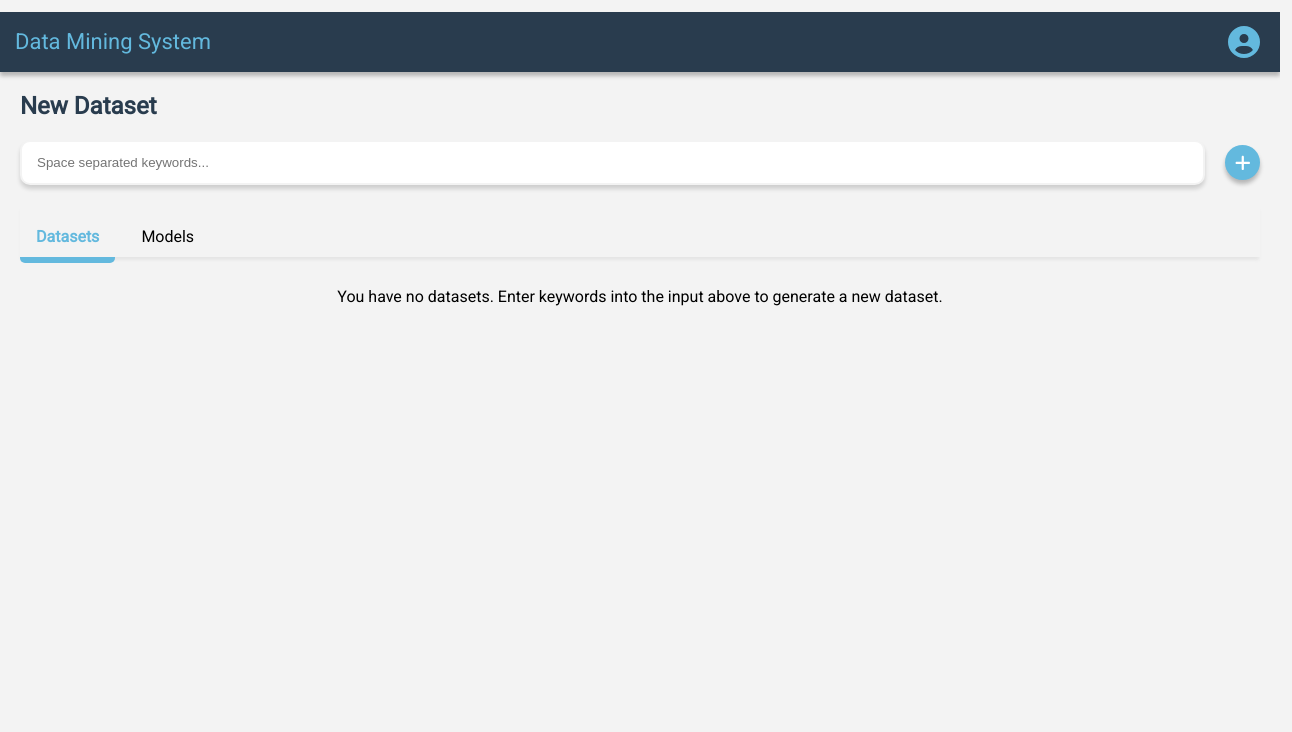
Test case: Analogy Test Page › White box tests › should show error message if negative number is entered in number field
Click the list item "Models" at (168, 237), box [141,227,194,246]
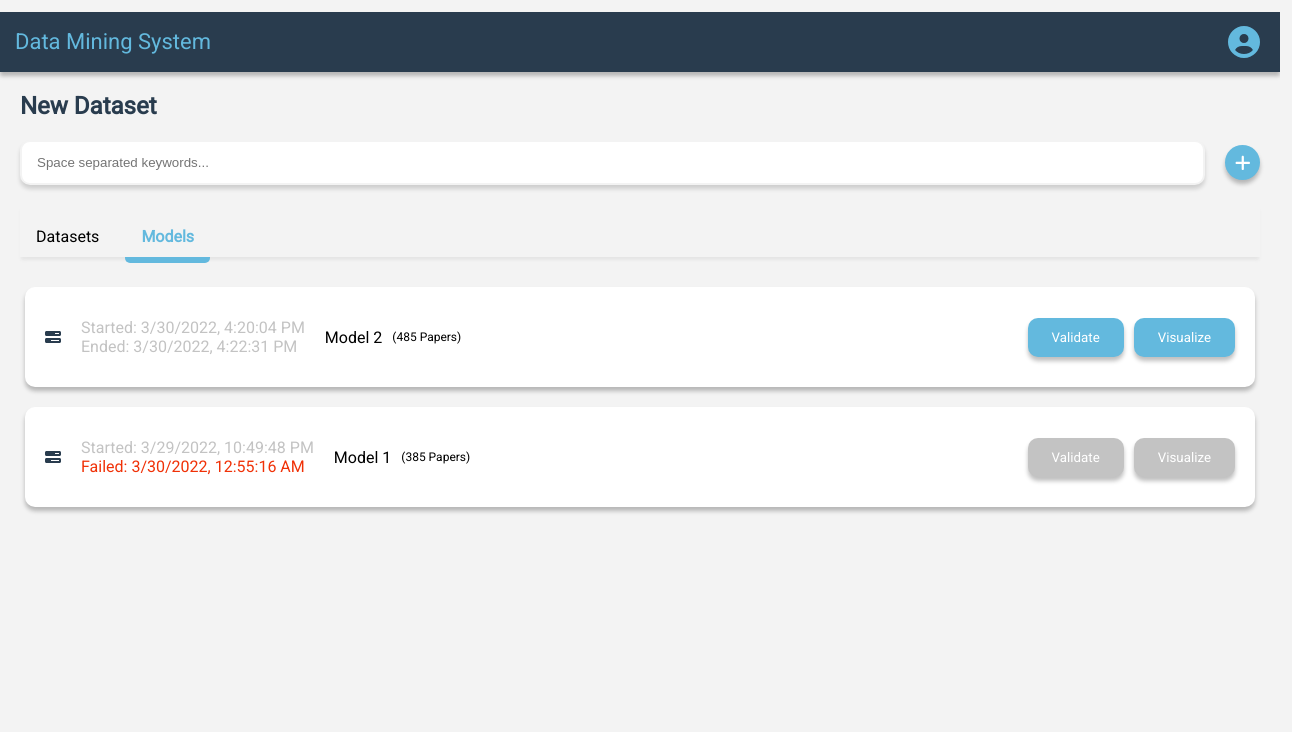
Click the button "Validate" in the row of "485" at (1076, 338), box [1028,318,1124,357]
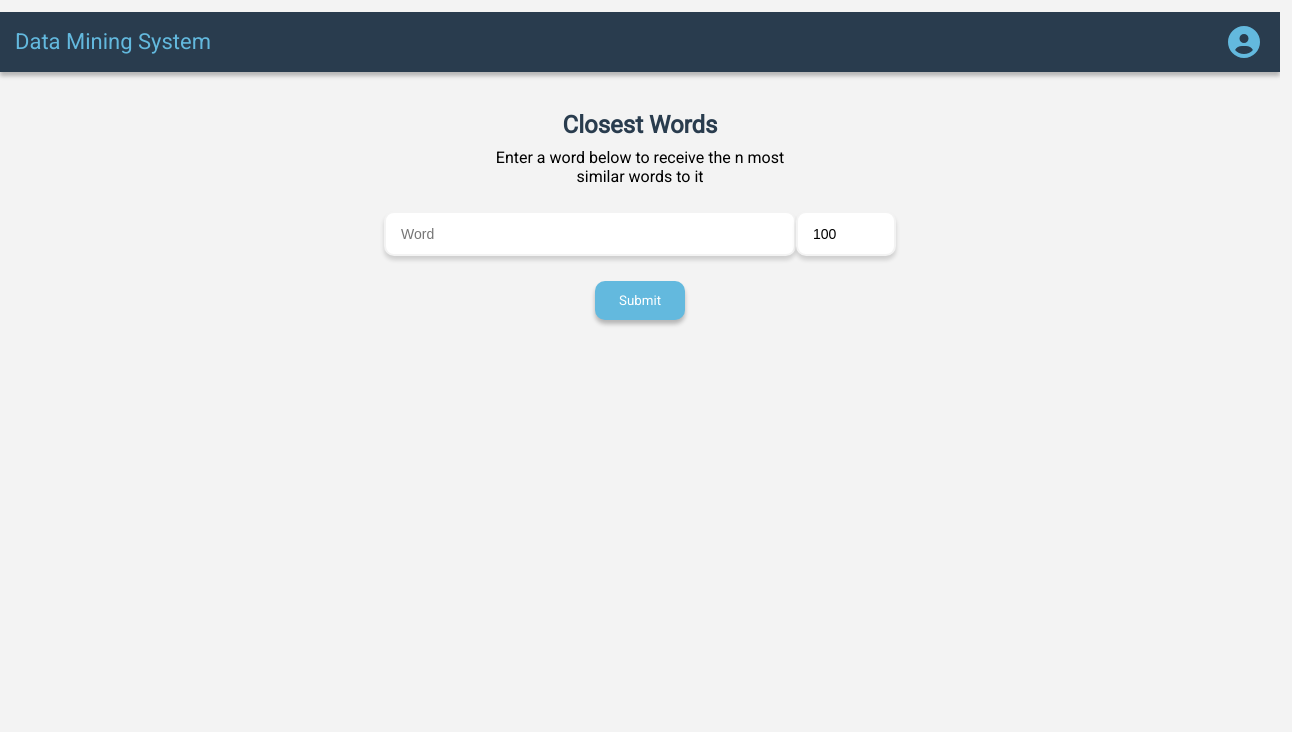
Type "word" into the field with id "closest-word-input" at (590, 234), box [384,211,796,256]
Click the button "Submit" at (640, 301), box [595,281,685,320]
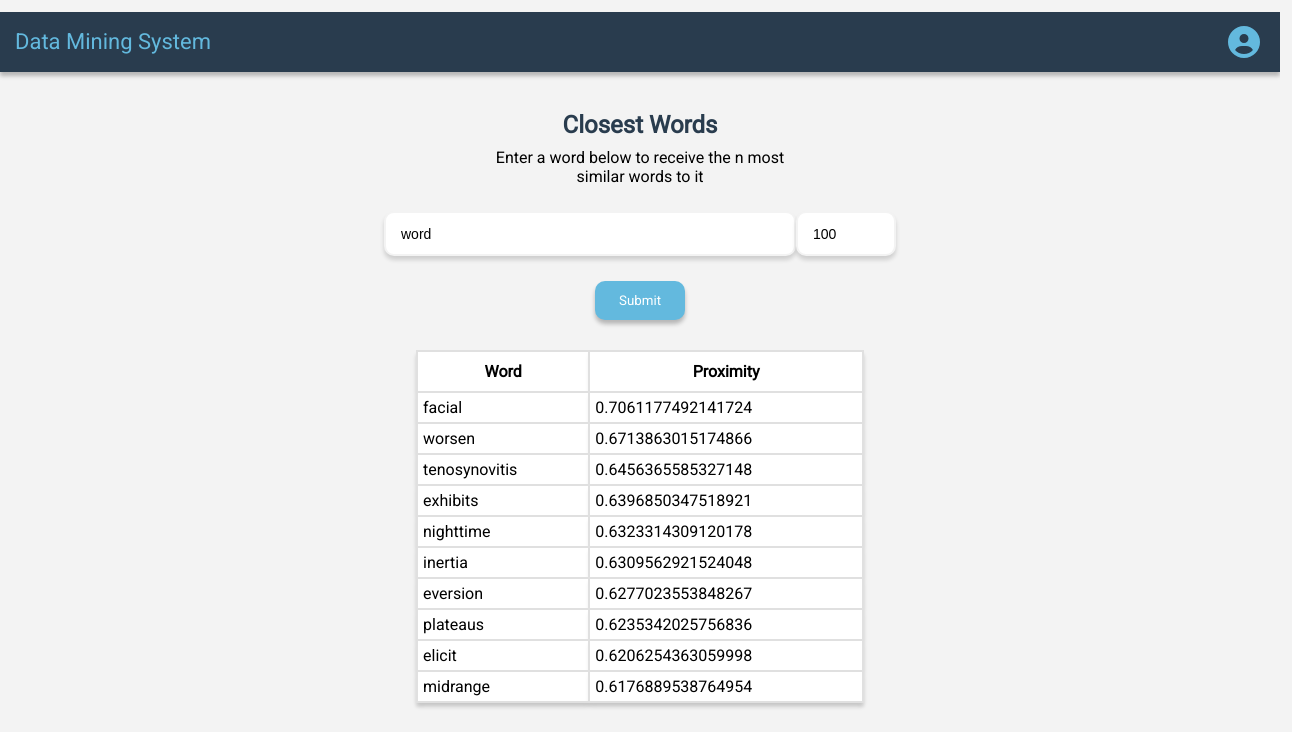
Click the cell "facial" at (503, 408), box [417,392,589,423]
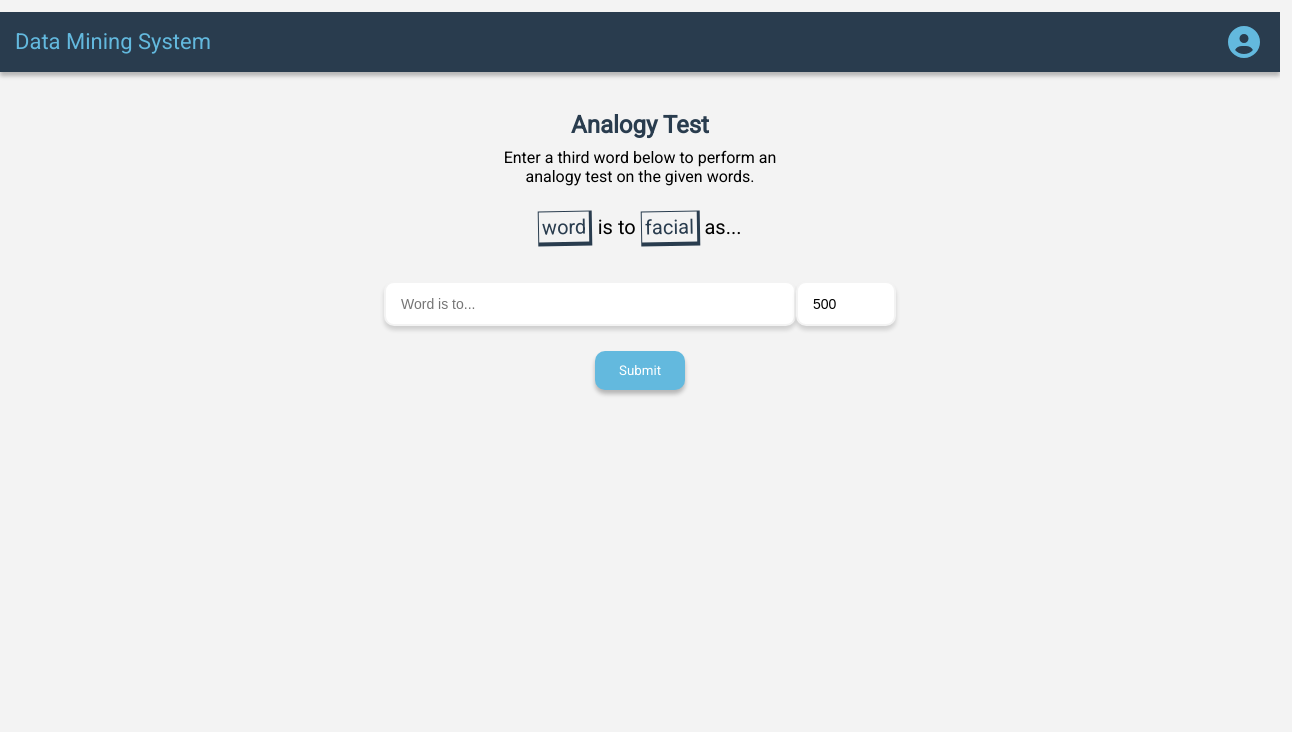
Type "-5" into the field with id "closest-word-input" at (590, 304), box [384,281,796,326]
Replace the text in the number field with id "num-closest-word-input" with "-5" at (846, 304), box [796,281,896,326]
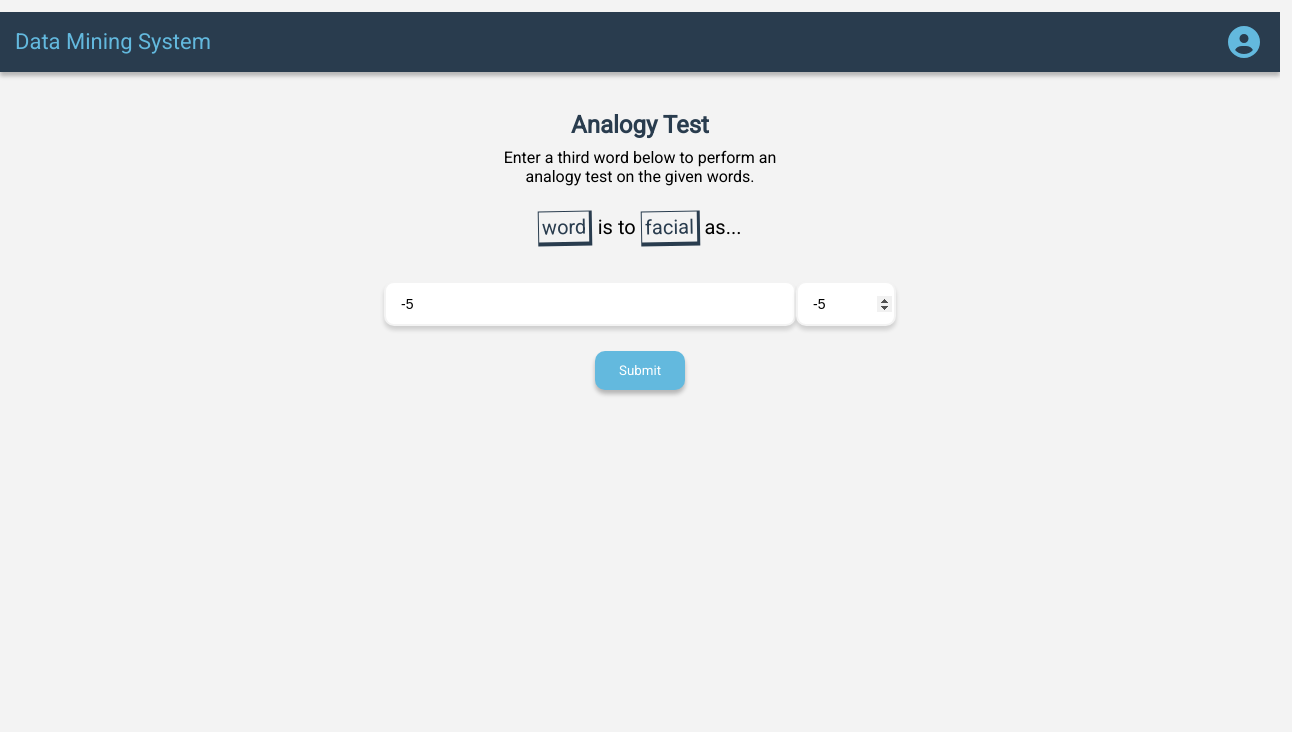
Result: the number field with id "num-closest-word-input" holds "-5" at [796,281,896,326]
Click the button "Submit" at (640, 371), box [595,351,685,390]
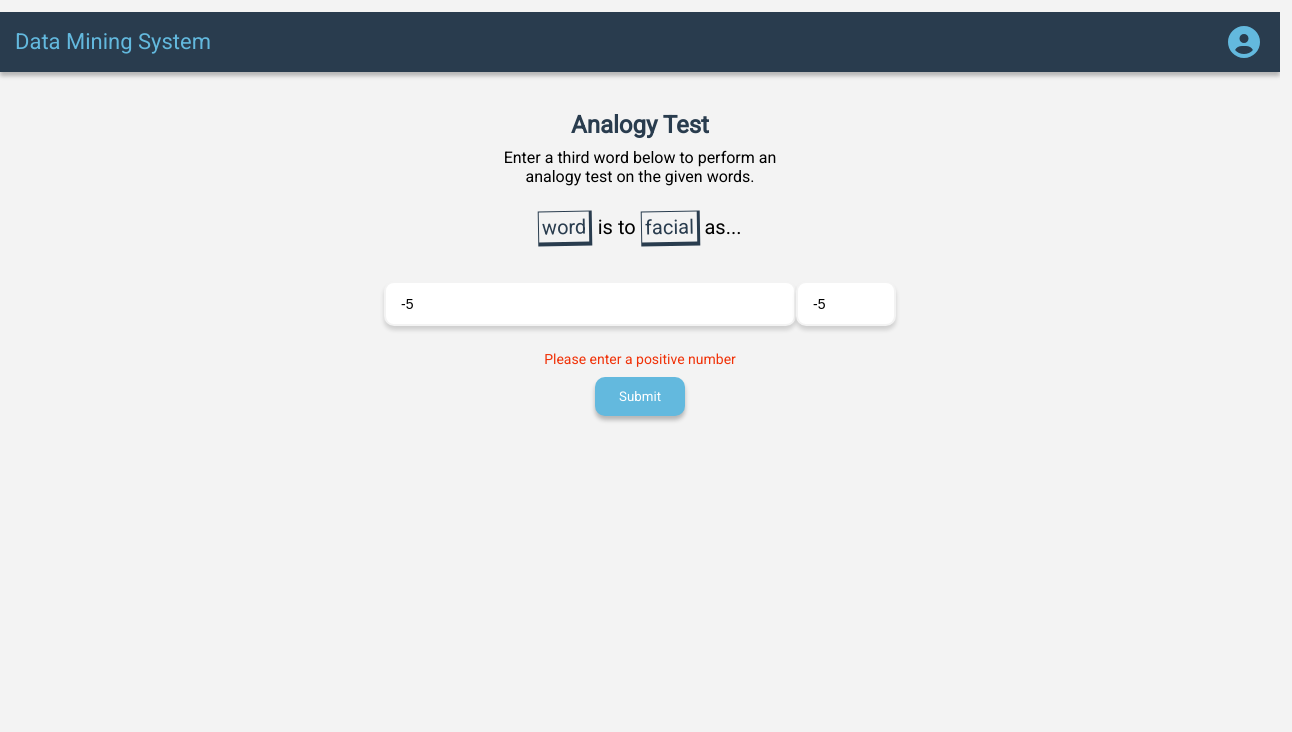
Result: the text "Please enter a positive number" is shown at [544,351,736,367]
